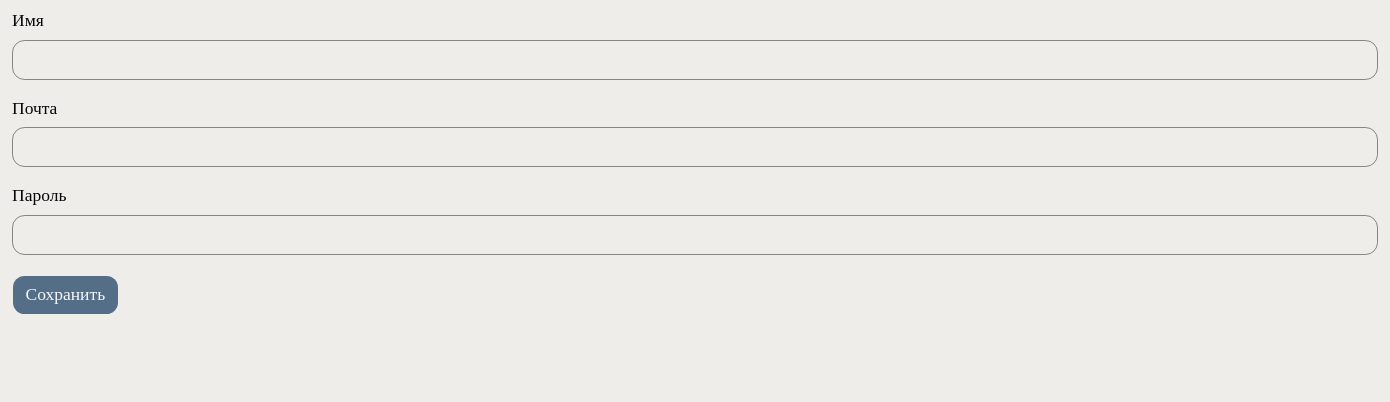
useFormAction › clearOnError: общий отказ без полей стирает перечисленное, остальное остаётся
In the field labelled "Имя": (695, 60) [12,40,1378,80], type "Анна"
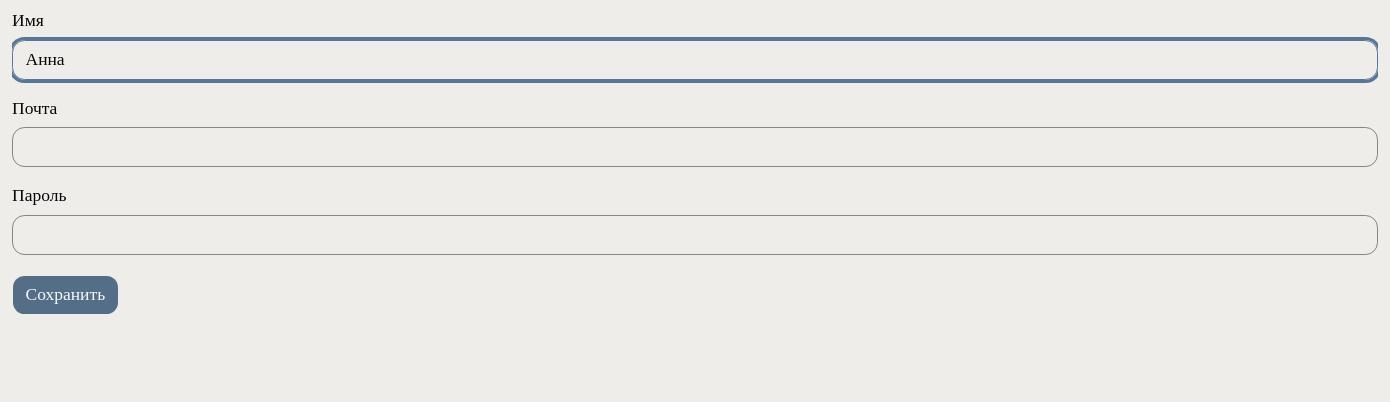
In the password field labelled "Пароль": (695, 234) [12,214,1378,254], type "секрет"
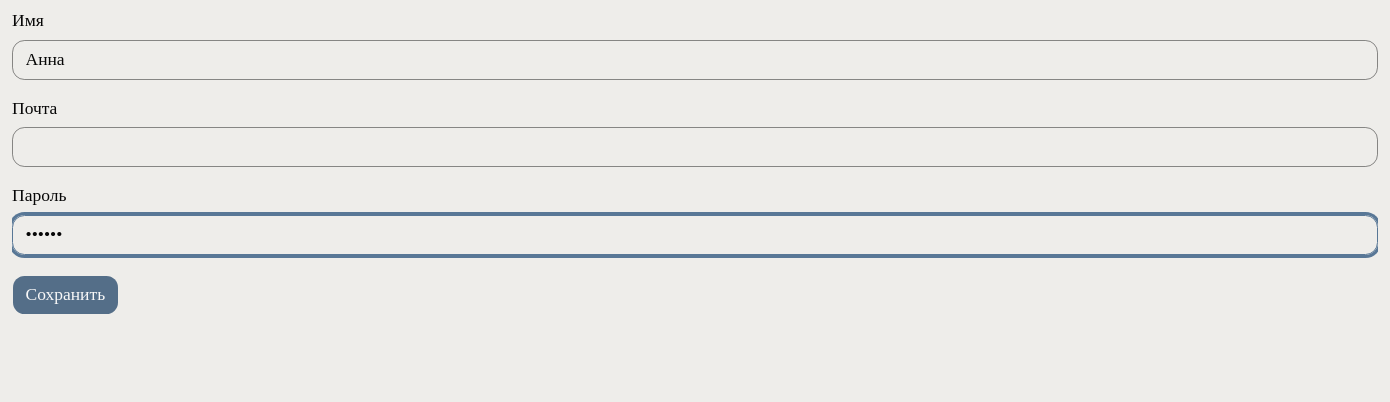
Click the button "Сохранить": click(65, 294) [12,274,119,314]
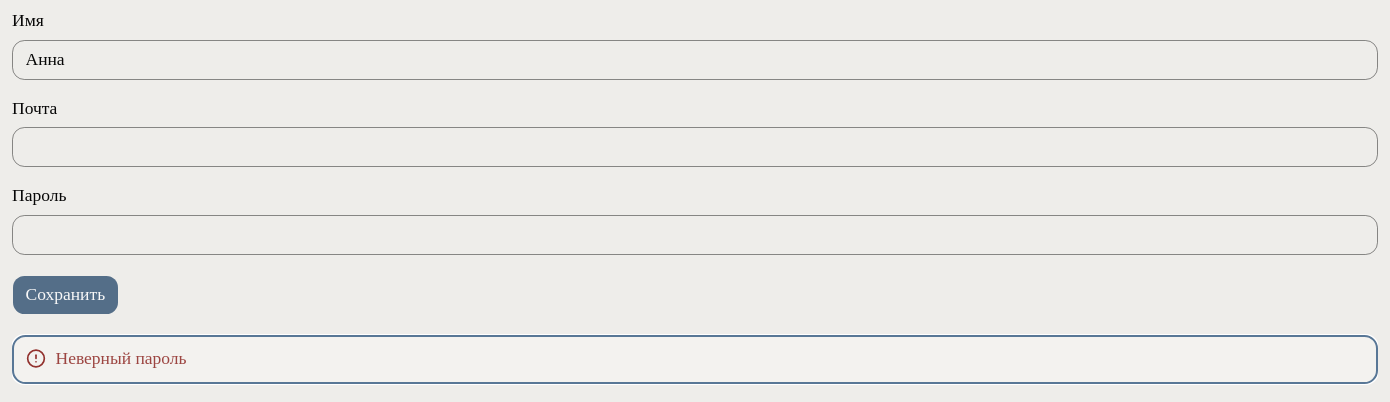
Now the message "Неверный пароль" is shown, box [12,334,1378,384]
Now the password field labelled "Пароль" is empty, box [12,214,1378,254]
